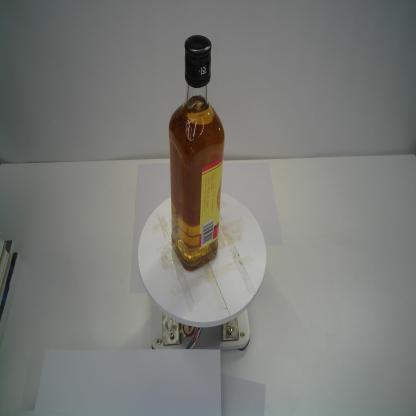Seasoner: (168, 34, 225, 271)
